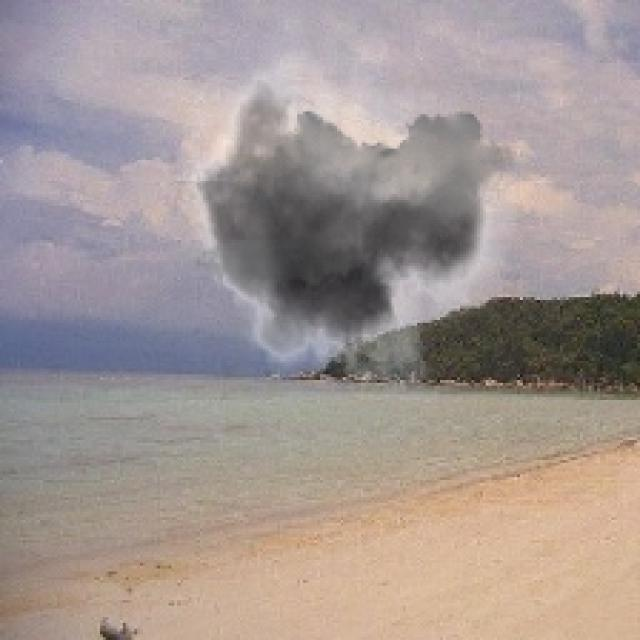smoke: (166, 3, 517, 408)
